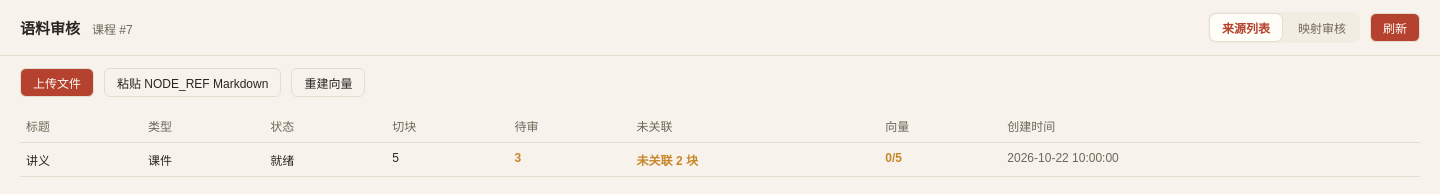
Test: TeacherRag 向量覆盖与重建（R2） › 重建向量 404/503 → 显示对应提示
Click the button with test id "reembed" at x=328, y=82, box [291,68,365,97]
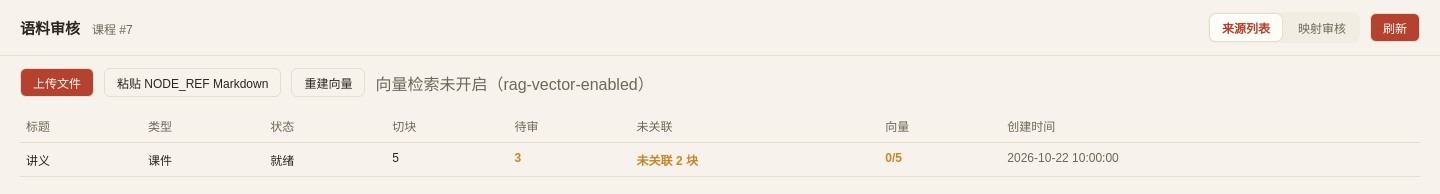
Now the message with test id "reembed-notice" shows "向量检索未开启", box [375,76,654,92]
Click the button with test id "reembed" at x=328, y=82, box [291,68,365,97]
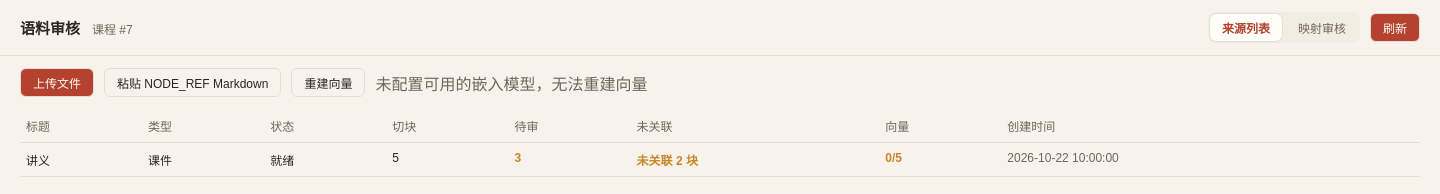
Now the message with test id "reembed-notice" shows "未配置可用的嵌入模型", box [375,76,647,92]
